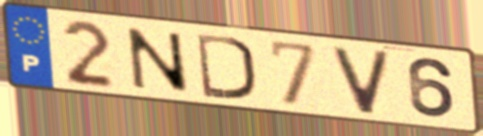2: (59, 18, 122, 91)
6: (404, 56, 459, 120)
7: (267, 38, 320, 109)
D: (193, 30, 259, 102)
N: (123, 25, 194, 96)
V: (329, 45, 394, 117)
